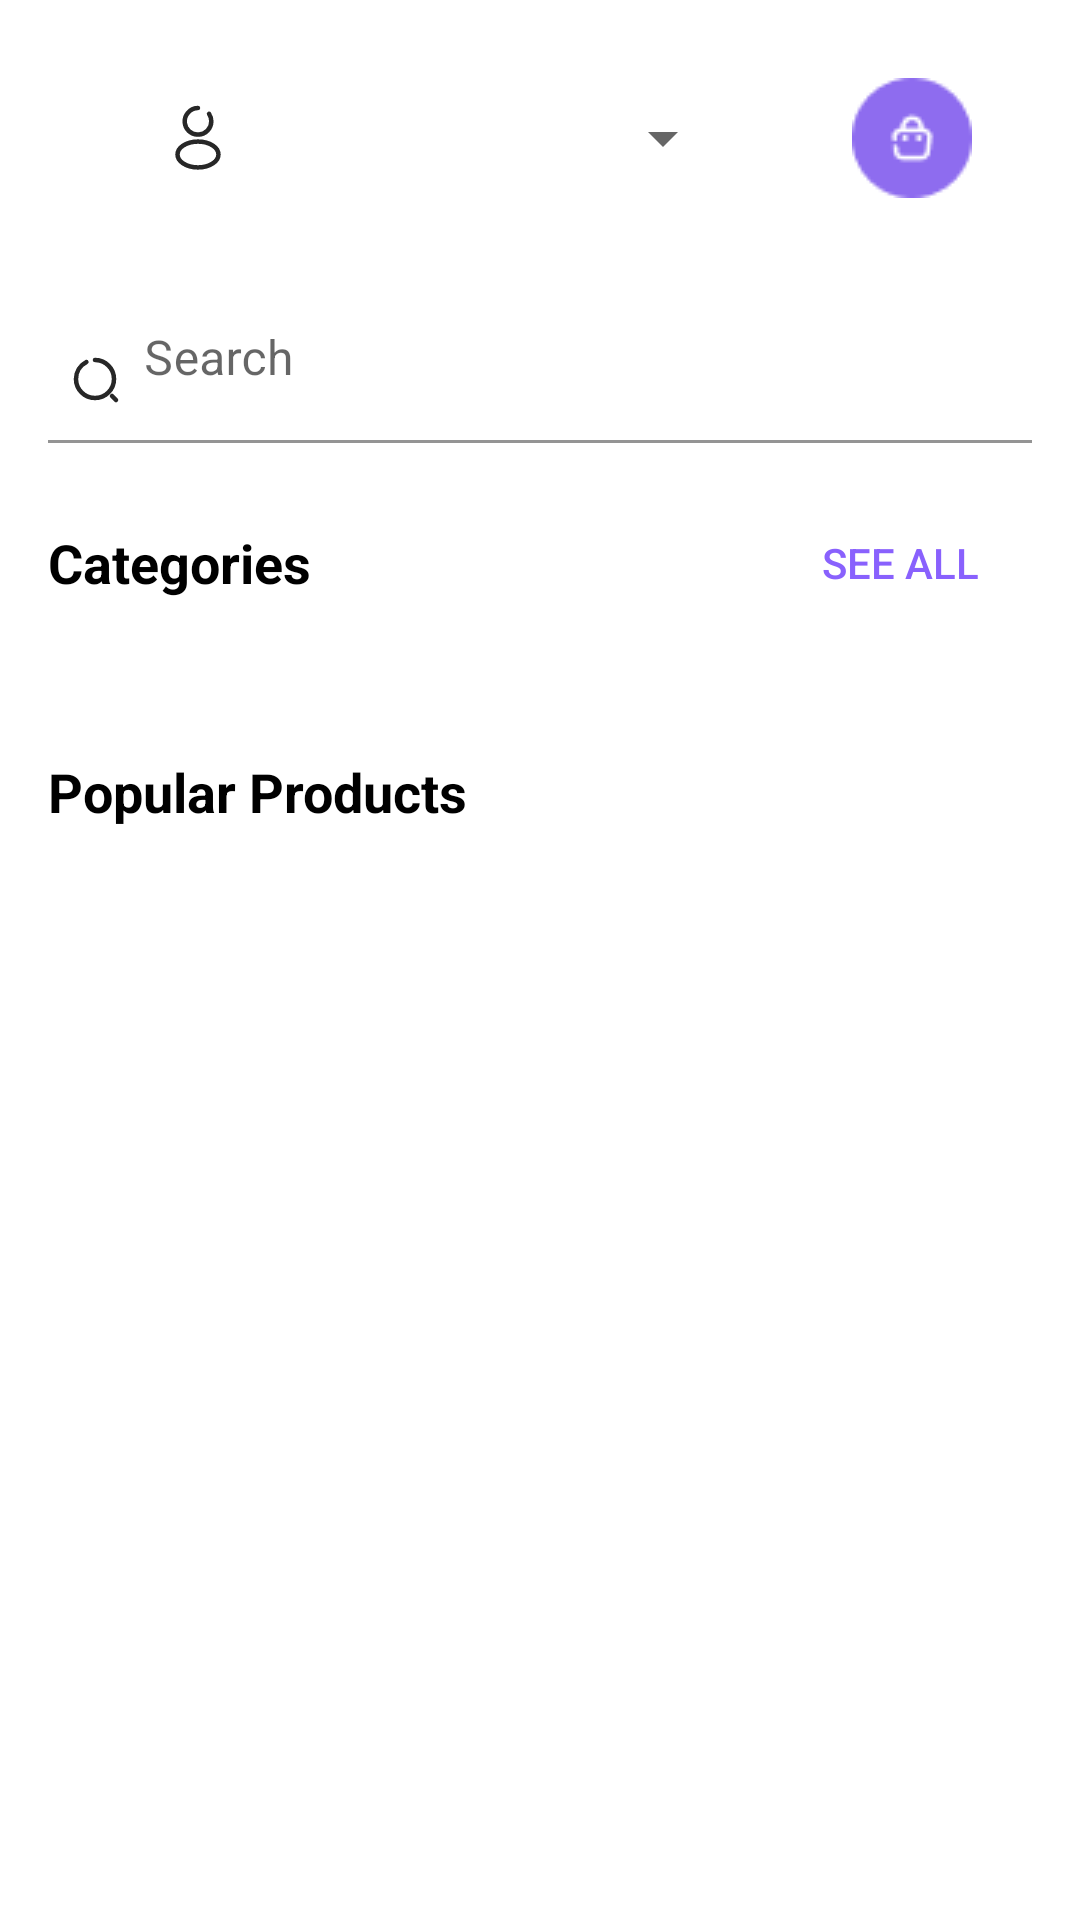

Icon click points for this 1080 x 1920 phone screenshot, format (x,y):
Cart: (912,138)
profile: (198,137)
